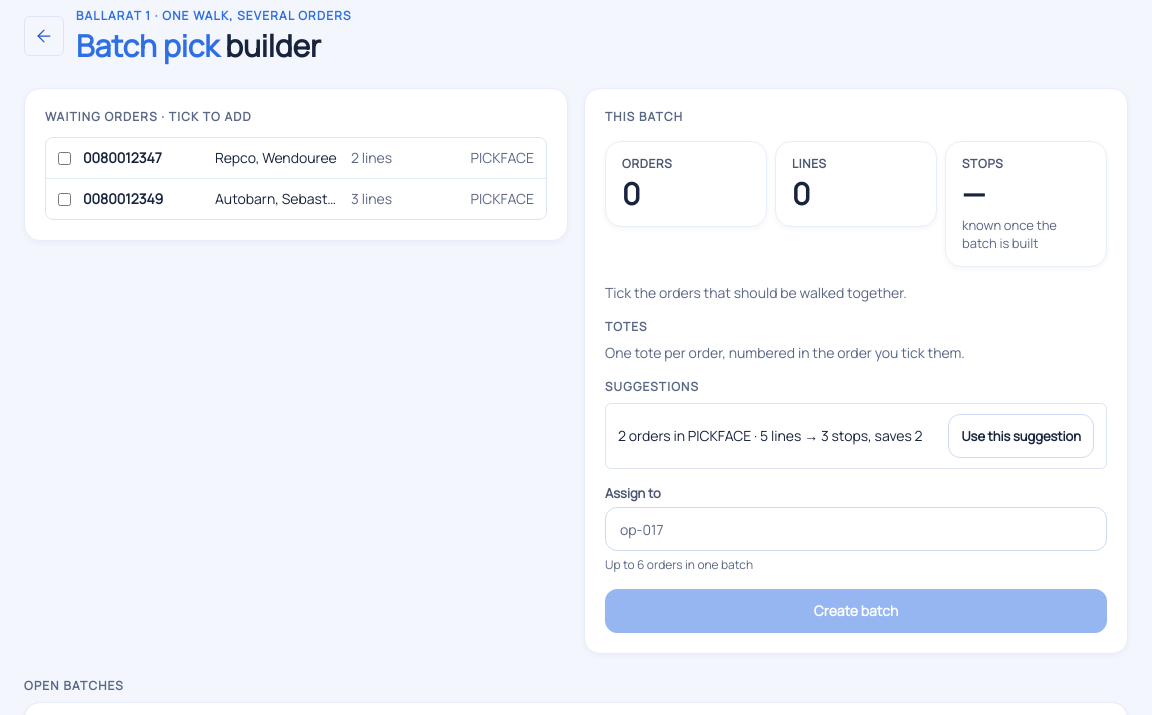
Test: BatchPick › uses a suggestion in one click
Step 1. Click the button "Use this suggestion" → (1021, 436), box [948,414,1094,458]
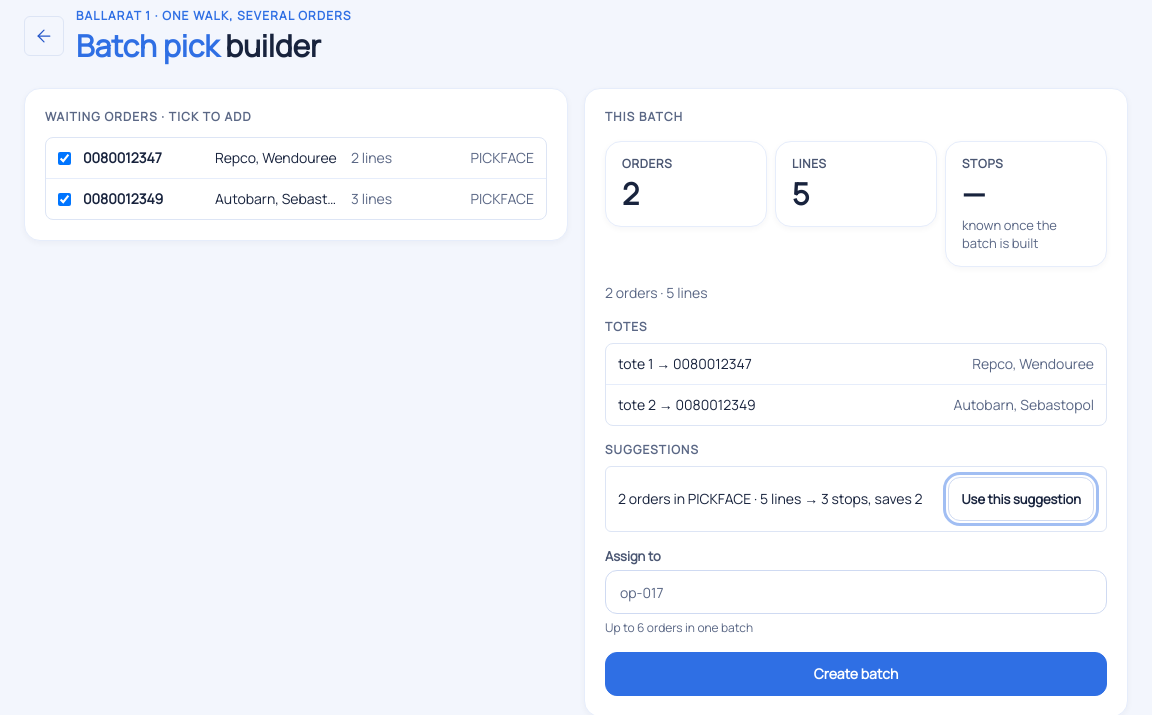
Now the checkbox named "Add 0080012347" is checked, box [58,152,71,164]
Now the checkbox named "Add 0080012349" is checked, box [58,192,71,206]
Now the text "2 orders · 5 lines" is shown, box [605,283,708,302]
